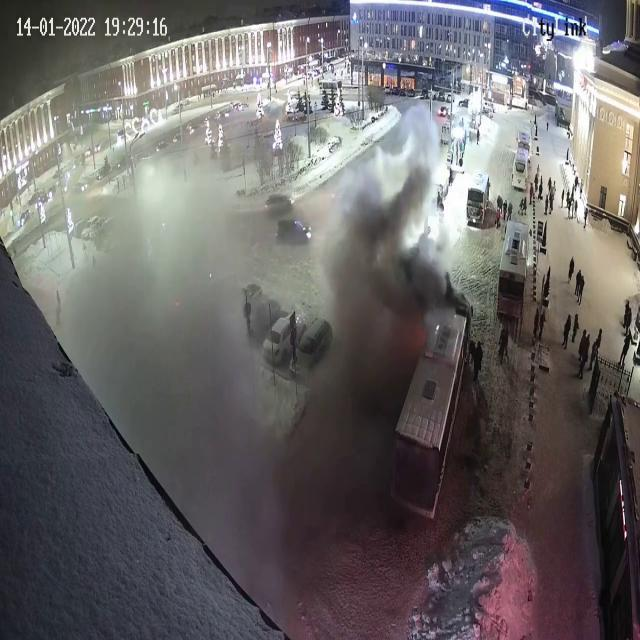Smoke: (54, 126, 300, 591), (308, 106, 458, 497)
